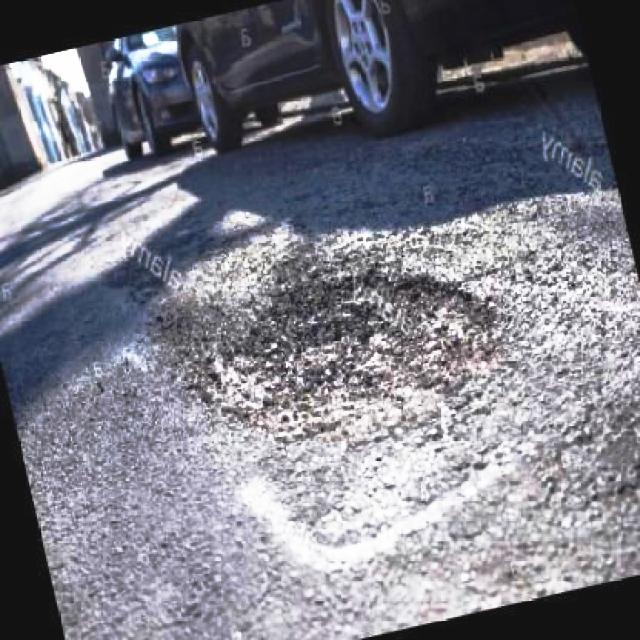pothole: (154, 252, 494, 428)
